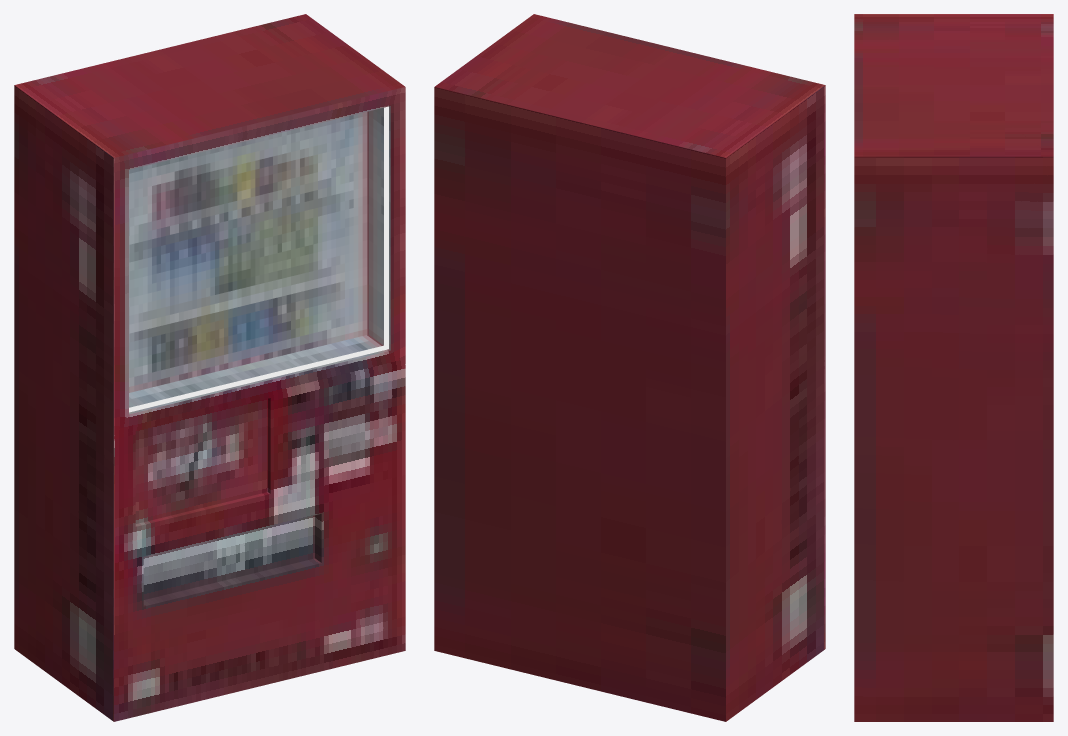
File: vending.glb
3 views of the same model, side by side, from view 1: azimuth 30°, elevation 25°; view 2: azimuth 150°, elevation 25°; view 3: azimuth 270°, elevation 25° (orthographic).
Parts seen in each view (by area): view 1: Plane; view 2: Plane; view 3: Plane.
Boxes of the visible parts, x1=… form: Plane: x1=14, y1=14, x2=405, y2=721; Plane: x1=434, y1=14, x2=825, y2=721; Plane: x1=854, y1=14, x2=1053, y2=721.
Bounding box in the file's own units: 1.37 × 2.53 × 0.8085.
3 materials, 1 textured.
